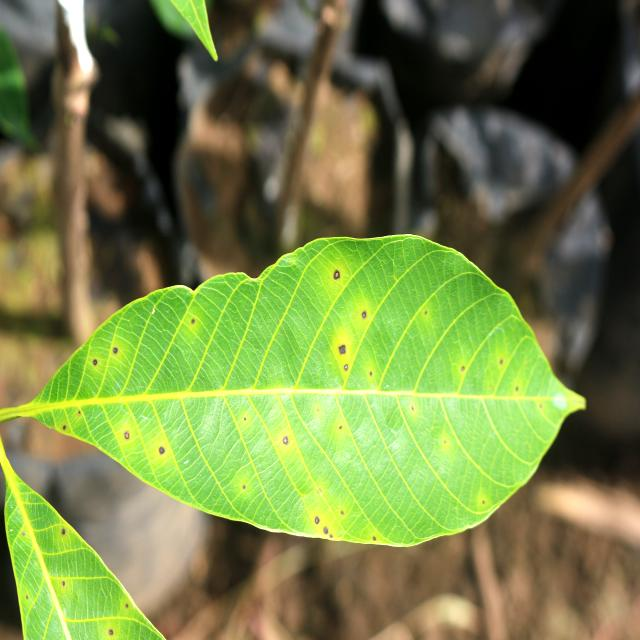Colletotrichum: (339, 345, 346, 355), (282, 435, 288, 444), (334, 270, 339, 280), (124, 432, 130, 440), (159, 447, 165, 454), (108, 629, 114, 635), (113, 347, 118, 354), (315, 516, 319, 524), (323, 527, 328, 533), (93, 359, 97, 366), (362, 312, 366, 318), (344, 364, 348, 370), (62, 425, 66, 430), (62, 529, 65, 534)
